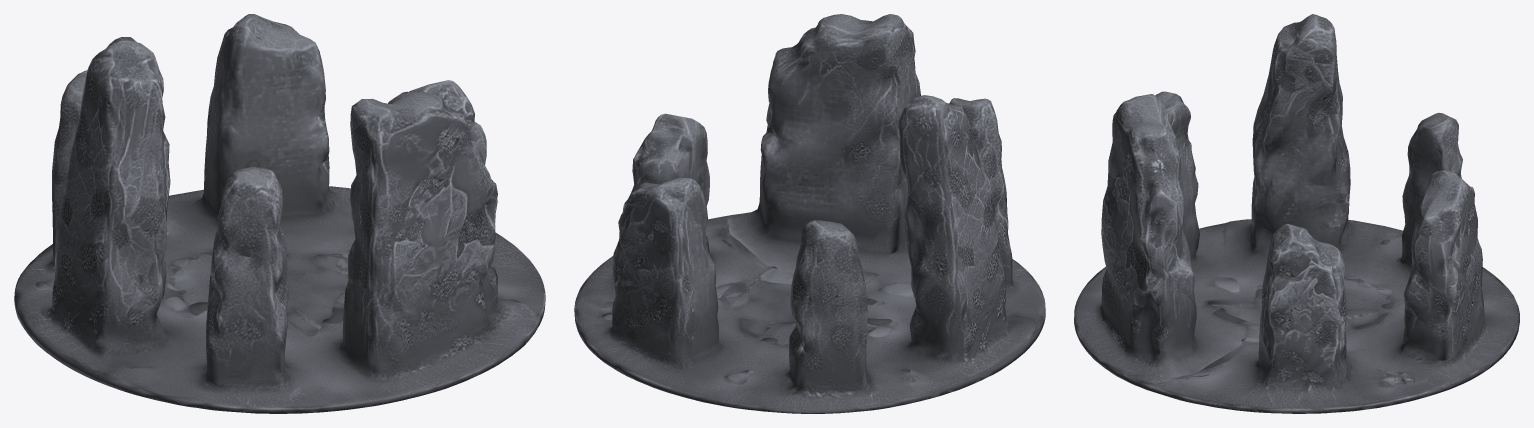
The picture shows the model from 3 angles, left to right: view 1: azimuth 30°, elevation 25°; view 2: azimuth 150°, elevation 25°; view 3: azimuth 270°, elevation 25°; orthographic projection. The views are drawn at different scales.
Visible parts, largest first — view 1: repaired; view 2: repaired; view 3: repaired.
Boxes of the visible parts, x1,y1,x2,y2 form: repaired: (14, 14, 545, 413); repaired: (574, 14, 1045, 413); repaired: (1074, 14, 1519, 413).
Size of the model in its own units: 0.9992 by 0.6032 by 0.9991.
Materials: 1 (1 with a texture image).
